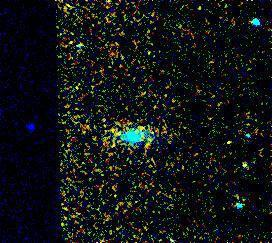star: (214, 125, 244, 155)
